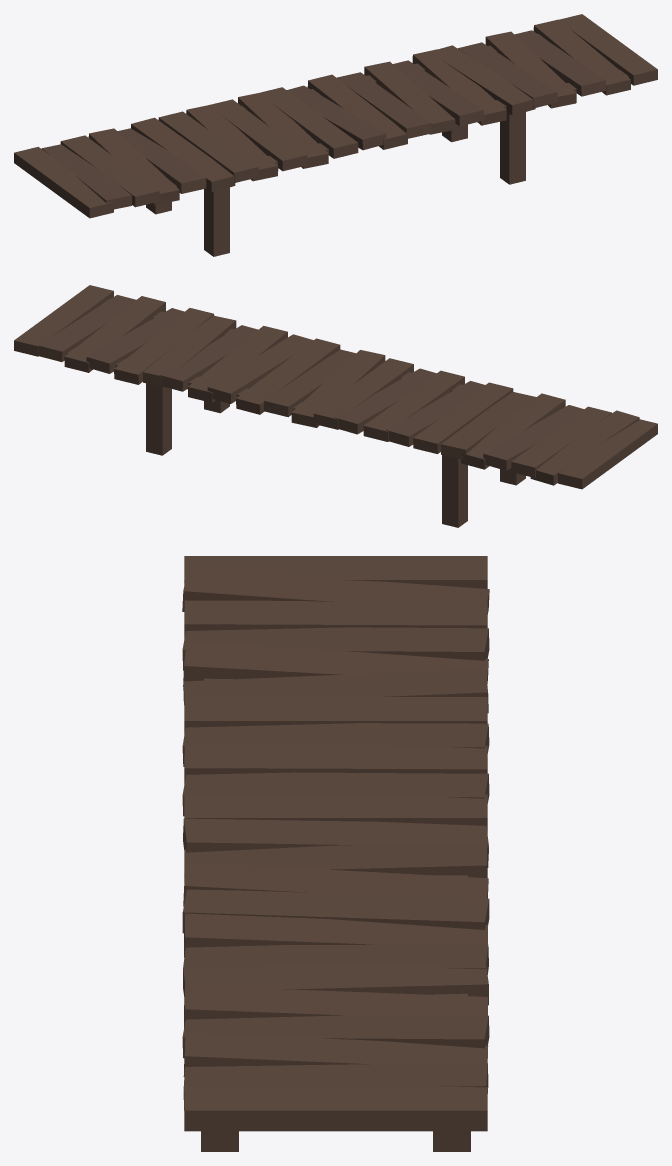
File: M_Bridge.fbx
3 views of the same model, one above another, from view 1: azimuth 30°, elevation 25°; view 2: azimuth 150°, elevation 25°; view 3: azimuth 270°, elevation 25° (orthographic). The views are drawn at different scales.
Parts seen in each view (by area): view 1: pCube220, pCube199, pCube200, pCube195, pCube214, pCube212, pCube202, pCube205, pCube198, pCube216, pCube201, pCube209 (+12 smaller); view 2: pCube220, pCube199, pCube210, pCube200, pCube208, pCube196, pCube205, pCube195, pCube212, pCube198, pCube211, pCube215 (+12 smaller); view 3: pCube195, pCube212, pCube216, pCube200, pCube205, pCube198, pCube209, pCube196, pCube208, pCube211, pCube197, pCube215 (+12 smaller).
Boxes of the visible parts, left/top/right/bottom form: pCube220: left=146, top=112, right=525, bottom=256; pCube199: left=14, top=146, right=113, bottom=218; pCube200: left=158, top=111, right=258, bottom=182; pCube195: left=559, top=14, right=657, bottom=85; pCube214: left=131, top=117, right=235, bottom=191; pCube212: left=212, top=99, right=307, bottom=171; pCube202: left=533, top=19, right=630, bottom=95; pCube205: left=364, top=61, right=455, bottom=134; pCube198: left=263, top=87, right=358, bottom=158; pCube216: left=60, top=135, right=159, bottom=207; pCube201: left=307, top=74, right=407, bottom=149; pCube209: left=438, top=45, right=535, bottom=115; pCube220: left=146, top=383, right=525, bottom=527; pCube199: left=558, top=419, right=657, bottom=489; pCube210: left=236, top=338, right=340, bottom=414; pCube200: left=413, top=382, right=513, bottom=453; pCube208: left=64, top=296, right=165, bottom=372; pCube196: left=114, top=308, right=214, bottom=384; pCube205: left=207, top=334, right=313, bottom=403; pCube195: left=14, top=285, right=113, bottom=356; pCube212: left=363, top=370, right=464, bottom=441; pCube198: left=313, top=358, right=413, bottom=429; pCube211: left=291, top=350, right=385, bottom=427; pCube215: left=461, top=393, right=565, bottom=469; pCube195: left=184, top=1087, right=487, bottom=1131; pCube212: left=184, top=744, right=487, bottom=783; pCube216: left=184, top=600, right=487, bottom=638; pCube200: left=184, top=697, right=487, bottom=734; pCube205: left=182, top=889, right=489, bottom=933; pCube198: left=184, top=794, right=487, bottom=833; pCube209: left=183, top=961, right=488, bottom=1005; pCube196: left=184, top=985, right=487, bottom=1027; pCube208: left=183, top=1032, right=488, bottom=1076; pCube211: left=183, top=818, right=488, bottom=867; pCube197: left=184, top=913, right=487, bottom=957; pCube215: left=183, top=642, right=488, bottom=686.
Bounding box in the file's own units: 34.64 × 5.01 × 8.11.
